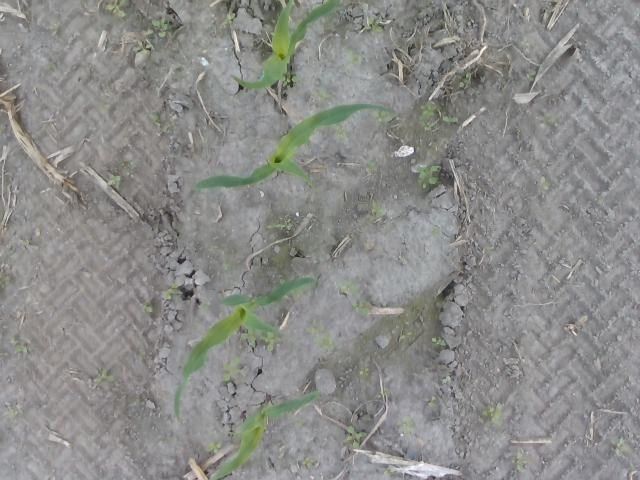Maize: (173, 276, 320, 420), (198, 103, 400, 196), (230, 0, 344, 90), (210, 390, 324, 478)
Weeds: (339, 281, 371, 318), (306, 320, 337, 352), (242, 325, 278, 352), (422, 100, 454, 128), (209, 244, 232, 270), (344, 426, 368, 450), (417, 163, 440, 188), (132, 29, 154, 54), (88, 368, 113, 388), (224, 359, 246, 380), (9, 336, 29, 357), (370, 108, 400, 122), (398, 416, 416, 438), (160, 282, 178, 301), (106, 1, 126, 18), (270, 221, 294, 234), (364, 15, 386, 29), (614, 438, 631, 456), (482, 405, 502, 420), (280, 76, 299, 90), (312, 90, 332, 103), (153, 17, 168, 34), (107, 173, 124, 188), (516, 452, 528, 472), (347, 50, 362, 64), (372, 203, 387, 217), (4, 403, 20, 416), (458, 74, 472, 88), (147, 114, 163, 126), (539, 116, 558, 126), (222, 12, 235, 26), (210, 440, 223, 454), (430, 338, 448, 348), (357, 368, 373, 379), (336, 122, 346, 138), (539, 176, 550, 190), (427, 396, 438, 410), (303, 459, 316, 470), (366, 162, 376, 174), (441, 376, 454, 385), (145, 304, 152, 314)
